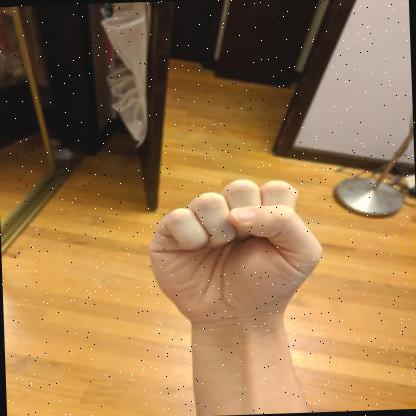S: (149, 179, 322, 328)
